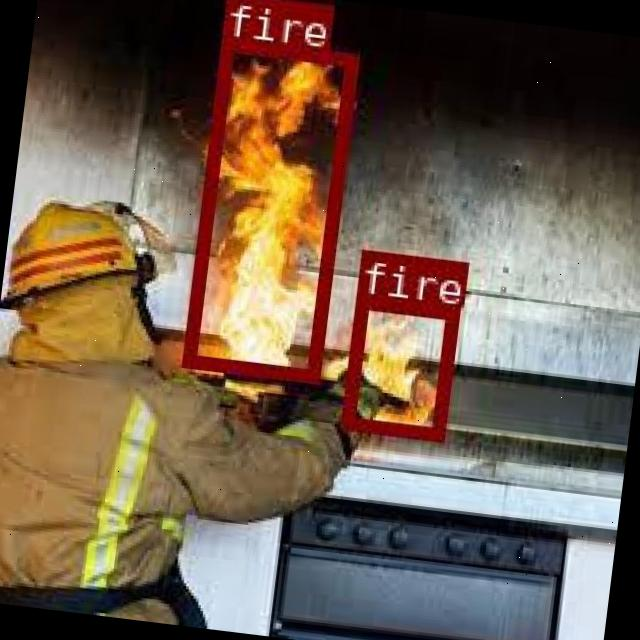fire: (181, 36, 357, 378), (340, 294, 456, 438)
